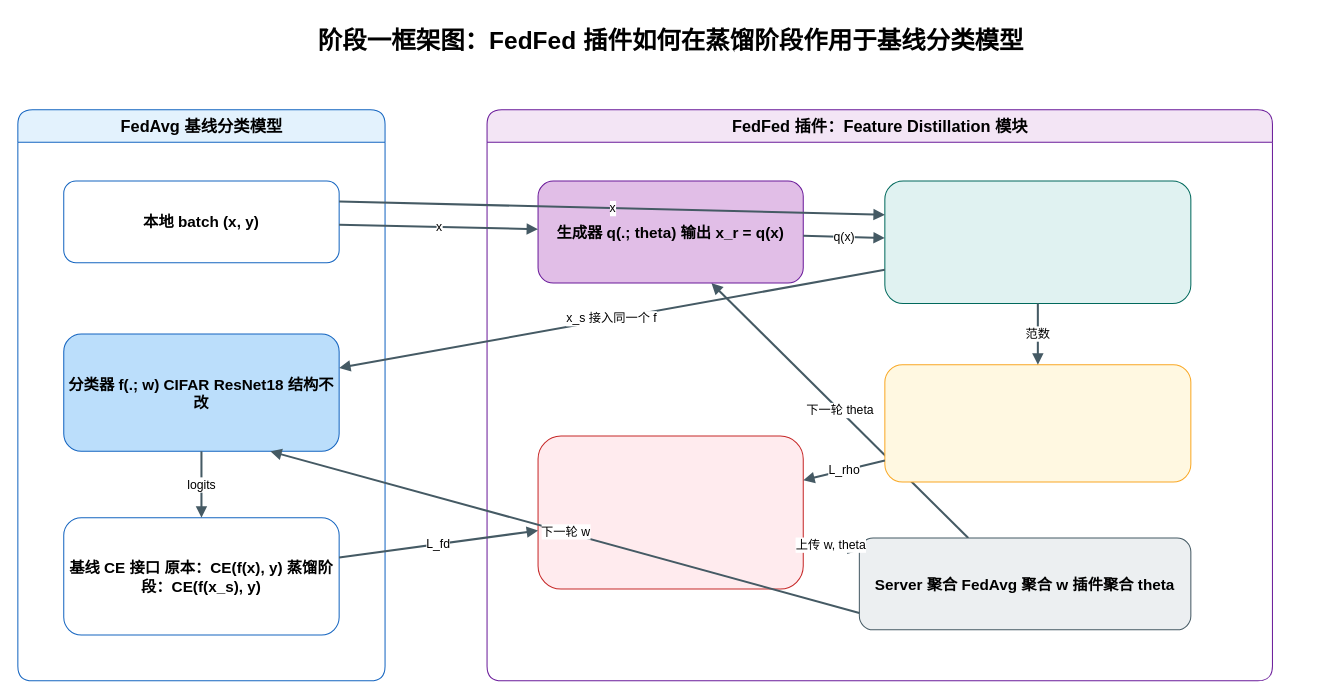
The diagram is 1321 pixels wide and 699 high, and some of its shapes have lost their labels. The centre of each missing label's shape, as x and y in pixels:
"rho 约束模块 控制 ||x_s|| 防止 x_s 直接复制原图" belongs at pixel 1037 423.
"分离器 x_s_raw = x - q(x) x_s = clip(x_s_raw)" belongs at pixel 1037 241.
"蒸馏总目标 L_fd + L_rho + KL 反向更新 w 和 theta" belongs at pixel 670 512.
